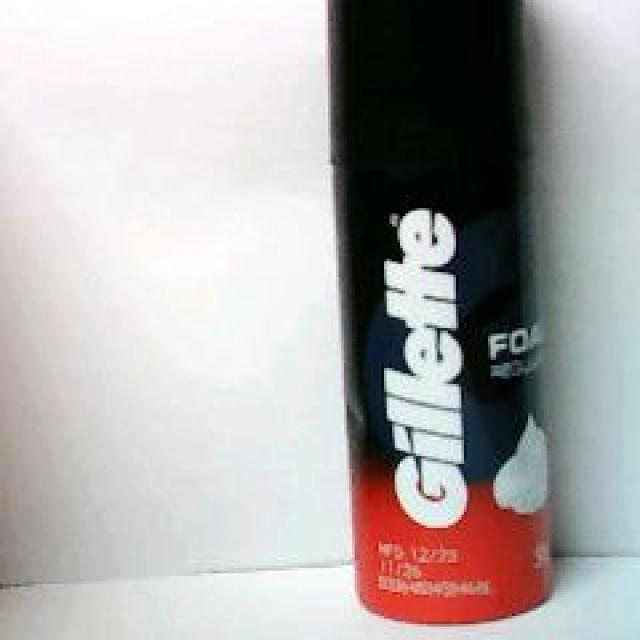gillette-foam: (323, 0, 552, 627)
